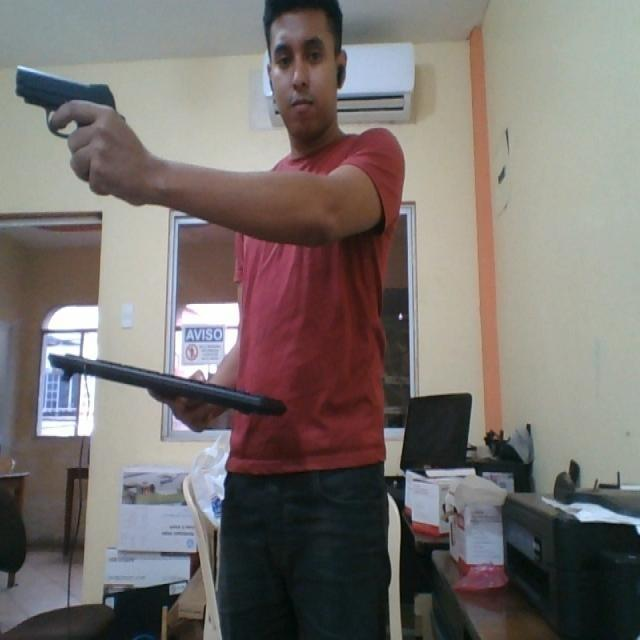weapon: (11, 65, 133, 141)
